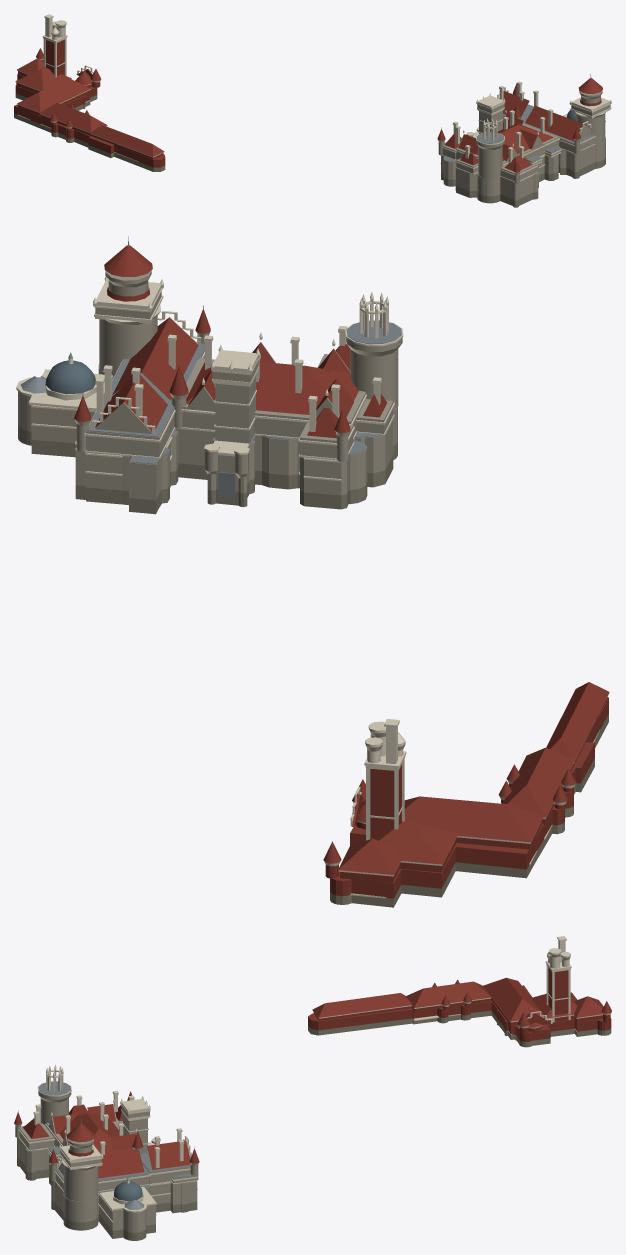
The model's file is casa-loma-far.glb.
3 views of the same model, one above another, from view 1: azimuth 30°, elevation 25°; view 2: azimuth 150°, elevation 25°; view 3: azimuth 270°, elevation 25° (orthographic). The views are drawn at different scales.
Visible parts, largest first — view 1: casa-loma-0-roof, casa-loma-0-stone, casa-loma-0-trim, casa-loma-0-brick, casa-loma-0-rubble, casa-loma-0-lead; view 2: casa-loma-0-stone, casa-loma-0-roof, casa-loma-0-trim, casa-loma-0-brick, casa-loma-0-rubble, casa-loma-0-lead, casa-loma-0-glow; view 3: casa-loma-0-roof, casa-loma-0-stone, casa-loma-0-trim, casa-loma-0-brick, casa-loma-0-rubble, casa-loma-0-lead, casa-loma-0-glow.
Boxes of the visible parts, x1,y1,x2,y2 form: casa-loma-0-roof: (15, 48, 602, 172); casa-loma-0-stone: (438, 91, 610, 200); casa-loma-0-trim: (16, 14, 611, 181); casa-loma-0-brick: (14, 39, 165, 167); casa-loma-0-rubble: (14, 93, 605, 207); casa-loma-0-lead: (444, 104, 605, 182); casa-loma-0-stone: (18, 270, 402, 500); casa-loma-0-roof: (74, 245, 609, 874); casa-loma-0-trim: (16, 276, 608, 898); casa-loma-0-brick: (325, 697, 608, 898); casa-loma-0-rubble: (18, 425, 608, 907); casa-loma-0-lead: (20, 320, 401, 497); casa-loma-0-glow: (45, 360, 95, 394); casa-loma-0-roof: (14, 977, 611, 1178); casa-loma-0-stone: (15, 1092, 198, 1232); casa-loma-0-trim: (14, 936, 611, 1222); casa-loma-0-brick: (308, 967, 611, 1041); casa-loma-0-rubble: (17, 1010, 611, 1240); casa-loma-0-lead: (26, 1081, 193, 1209); casa-loma-0-glow: (114, 1181, 142, 1201).
Bounding box in the file's own units: 189 × 38.45 × 199.
